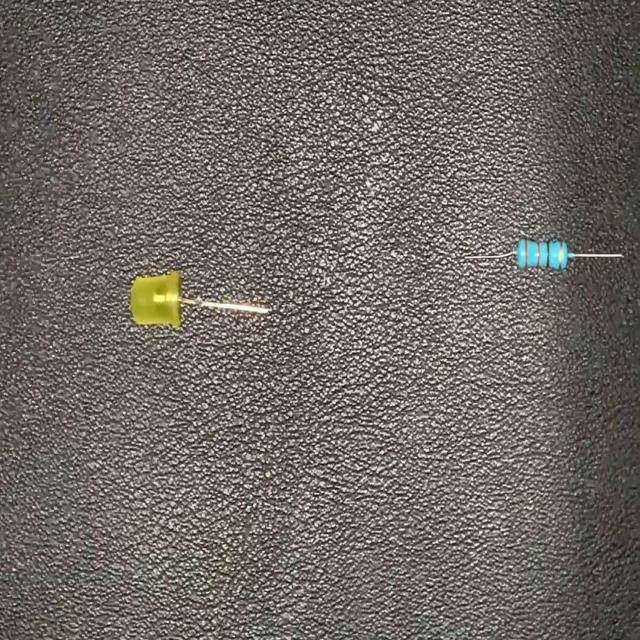missing-leg: (130, 271, 272, 332)
resistor: (460, 230, 628, 281)
